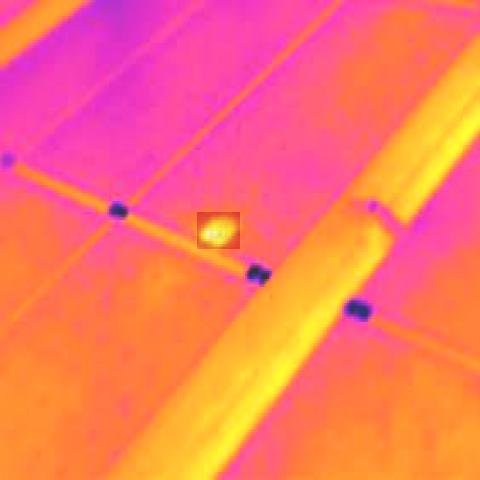fault: (197, 212, 240, 249)
